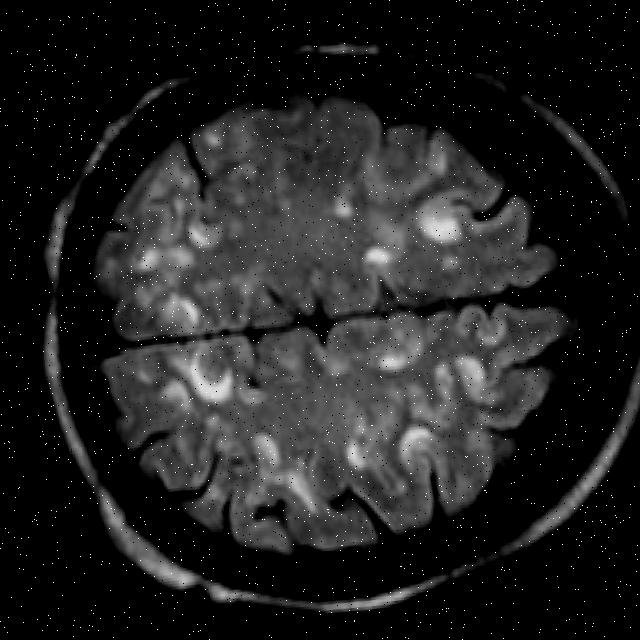NoTumor: (55, 46, 614, 591)
